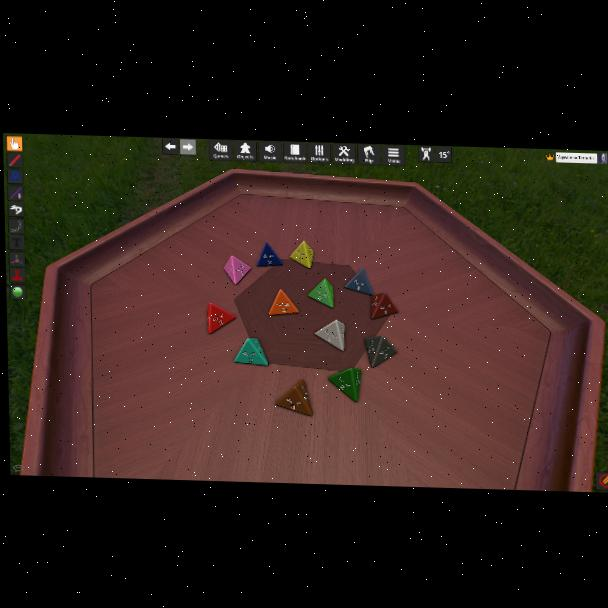d4: (274, 379, 313, 416), (326, 367, 360, 403), (364, 334, 397, 368), (314, 319, 345, 350), (234, 338, 267, 366), (206, 302, 234, 335), (268, 289, 299, 317), (308, 278, 335, 308), (225, 255, 251, 286), (371, 292, 398, 321), (344, 269, 372, 296), (256, 241, 283, 268), (289, 241, 314, 269)
